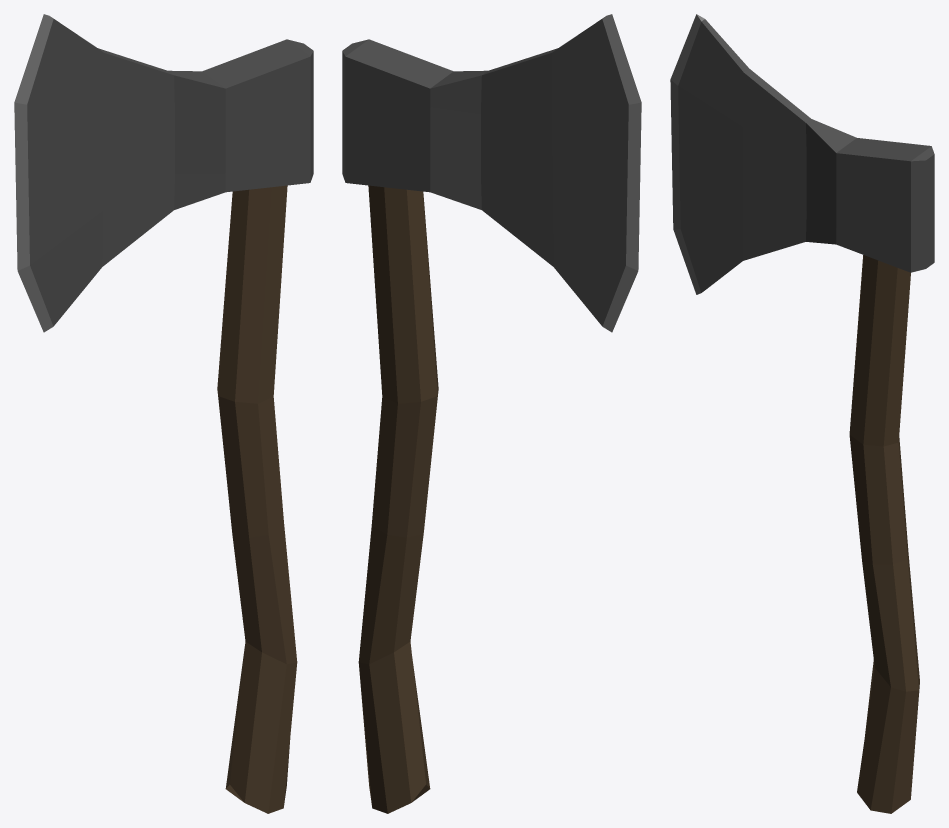
File: hatchet.glb
3 views of the same model, side by side, from view 1: azimuth 30°, elevation 25°; view 2: azimuth 150°, elevation 25°; view 3: azimuth 330°, elevation 25° (orthographic). The views are drawn at different scales.
Parts seen in each view (by area): view 1: hatchet; view 2: hatchet; view 3: hatchet.
Part boxes in pixels (x1=…): hatchet: x1=14, y1=14, x2=313, y2=813; hatchet: x1=342, y1=14, x2=641, y2=813; hatchet: x1=670, y1=14, x2=934, y2=813.
Size of the model in its own units: 0.1644 by 0.45 by 0.026.
